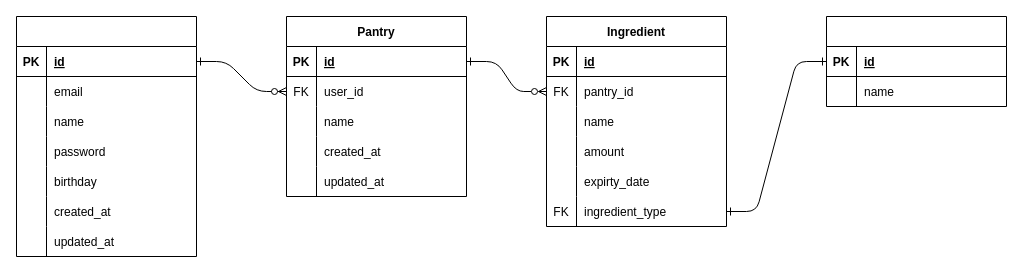
Image size: 1023x273. Some labels were removed from this diagram. Each missing label, with the box of its shape:
IngredientType: (826, 16, 1006, 106)
User: (16, 16, 196, 256)
